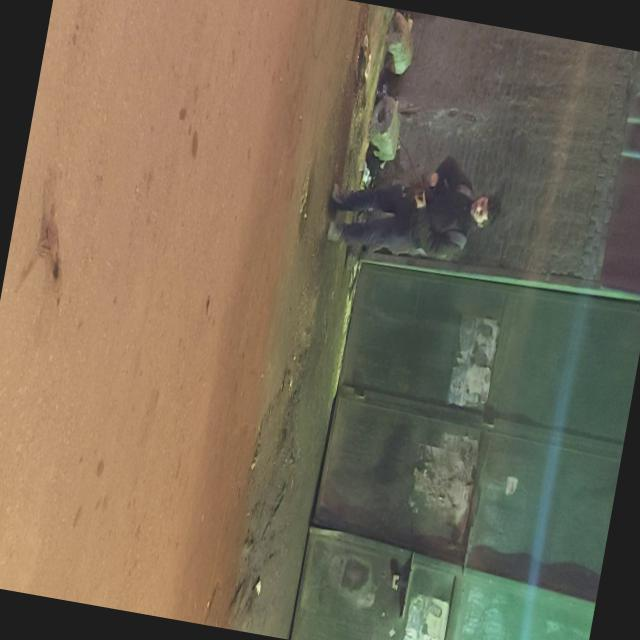long weapon: (396, 167, 451, 221)
